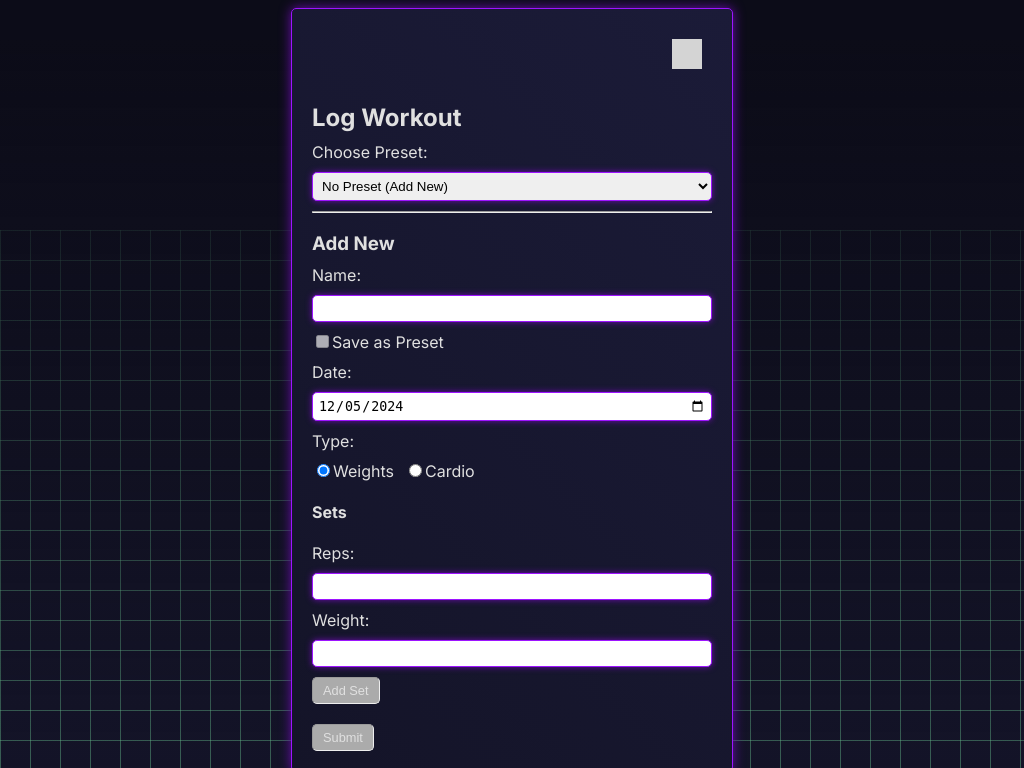
Test case: WorkoutEntryPage Component with Mocked API › switches between workout types
Check: the number field labelled "Reps:" is shown, box 312,574 -> 712,600
Check: the number field labelled "Weight:" is shown, box 312,640 -> 712,668
Note: Switch to Cardio
Step 1. Click the radio button labelled "Cardio" → [416, 470], box 409,464 -> 422,477
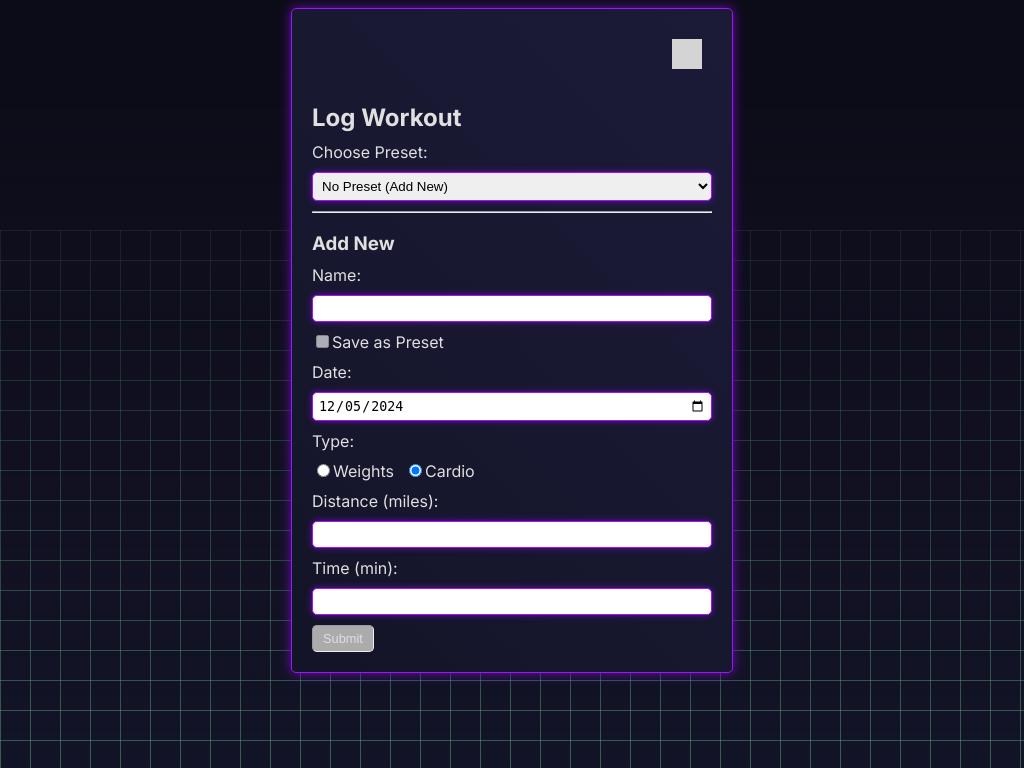
Check: the number field labelled "Distance (miles):" is shown, box 312,521 -> 712,548
Check: the number field labelled "Time (min):" is shown, box 312,588 -> 712,615
Check: the label labelled "Reps:" is gone
